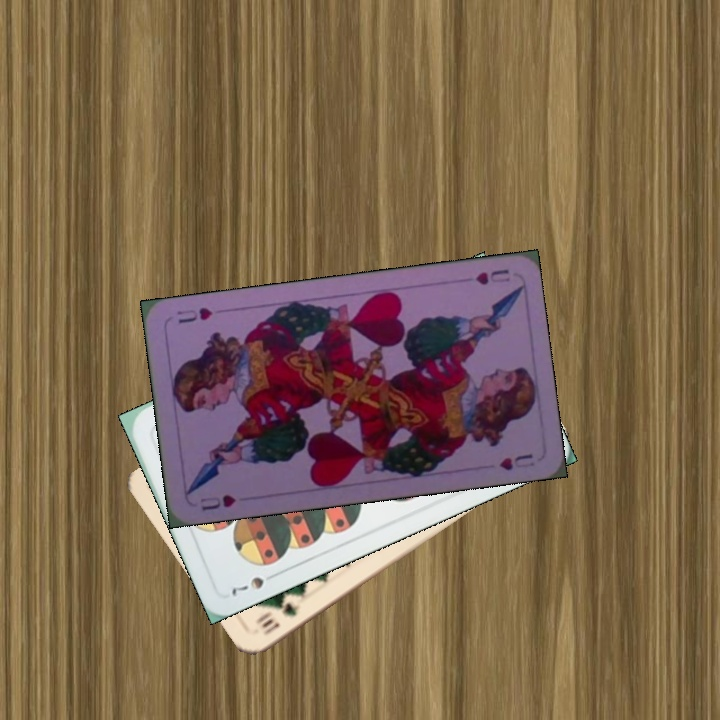G10: (253, 598, 303, 638)
HU: (196, 490, 239, 513), (471, 265, 513, 287)
S7: (227, 572, 267, 599)
